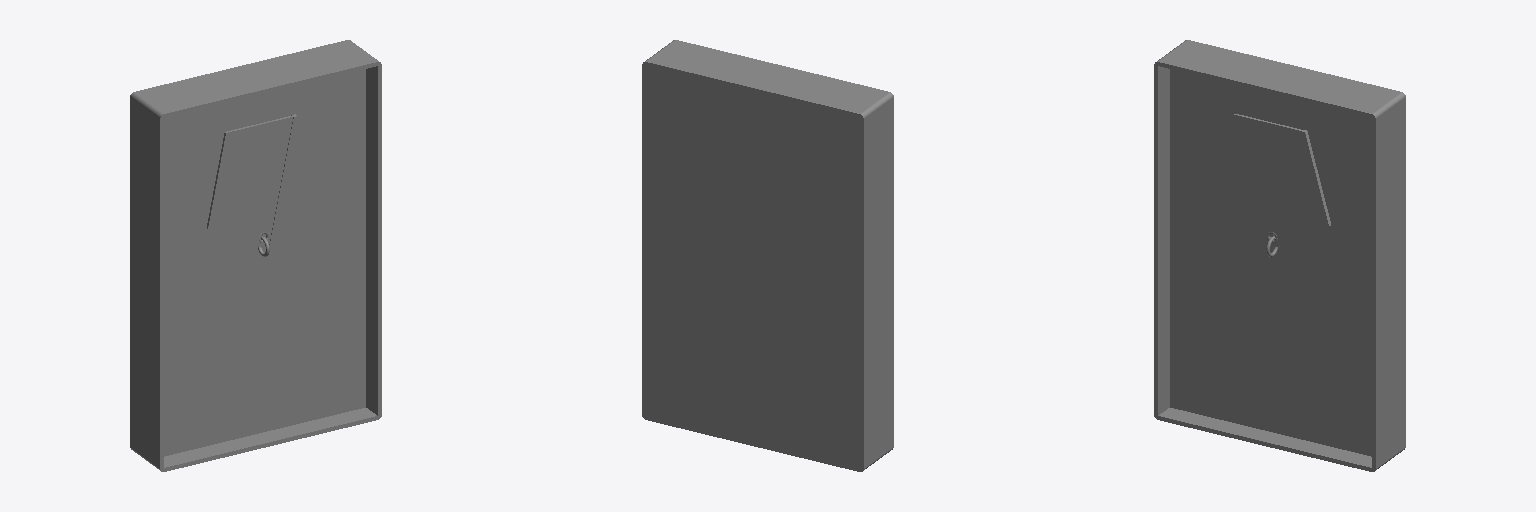
File: MedolContainer.obj
The picture shows the model from 3 angles: view 1: azimuth 30°, elevation 25°; view 2: azimuth 150°, elevation 25°; view 3: azimuth 330°, elevation 25°; orthographic projection.
Parts seen in each view (by area): view 1: 11; view 2: 11; view 3: 11.
Part boxes in pixels (x1,y1,x2,y2): 11: (130, 40, 381, 471); 11: (642, 40, 893, 471); 11: (1154, 40, 1405, 471).
Size of the model in its own units: 11.12 by 17.19 by 2.63.